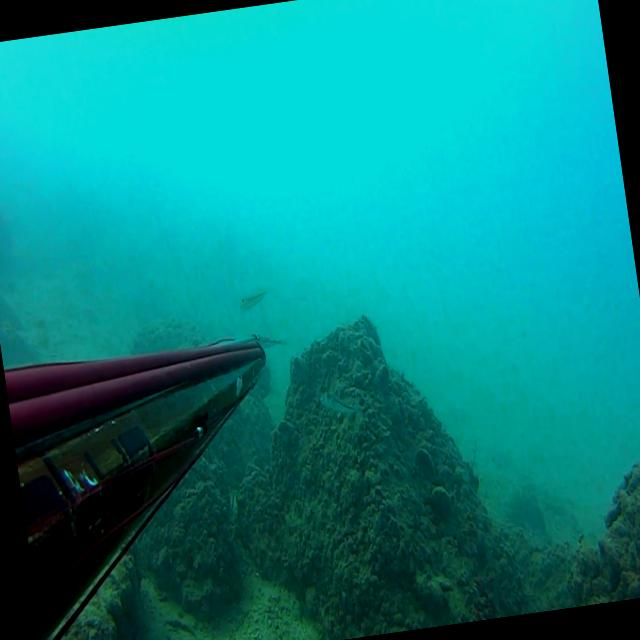Balon Baligi: (320, 388, 360, 418), (239, 289, 269, 311), (259, 332, 287, 352)
